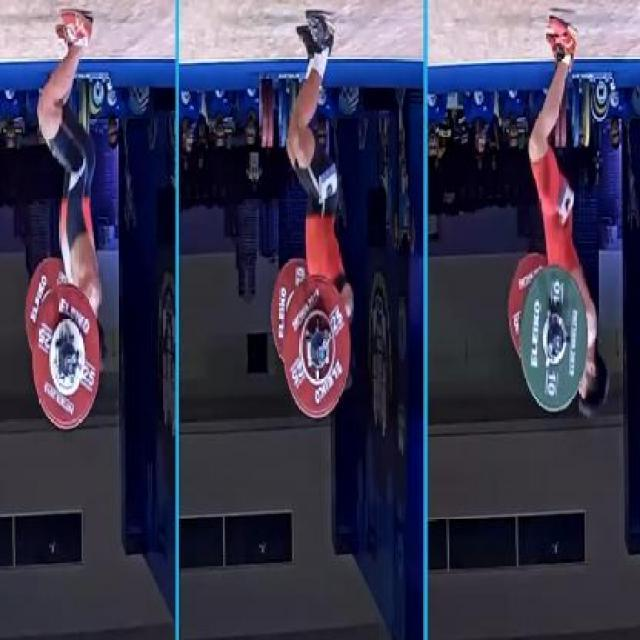Barbell: (60, 348, 76, 383), (550, 328, 564, 358), (314, 340, 328, 369)
